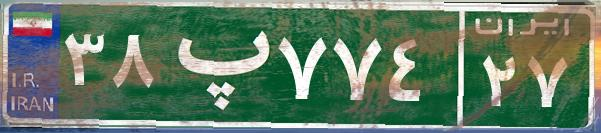2: (475, 38, 525, 113)
3: (57, 26, 110, 107)
4: (385, 28, 445, 110)
7: (273, 28, 330, 110), (330, 28, 385, 110), (525, 38, 570, 115)
8: (110, 28, 158, 105)
پ: (158, 15, 273, 115)
